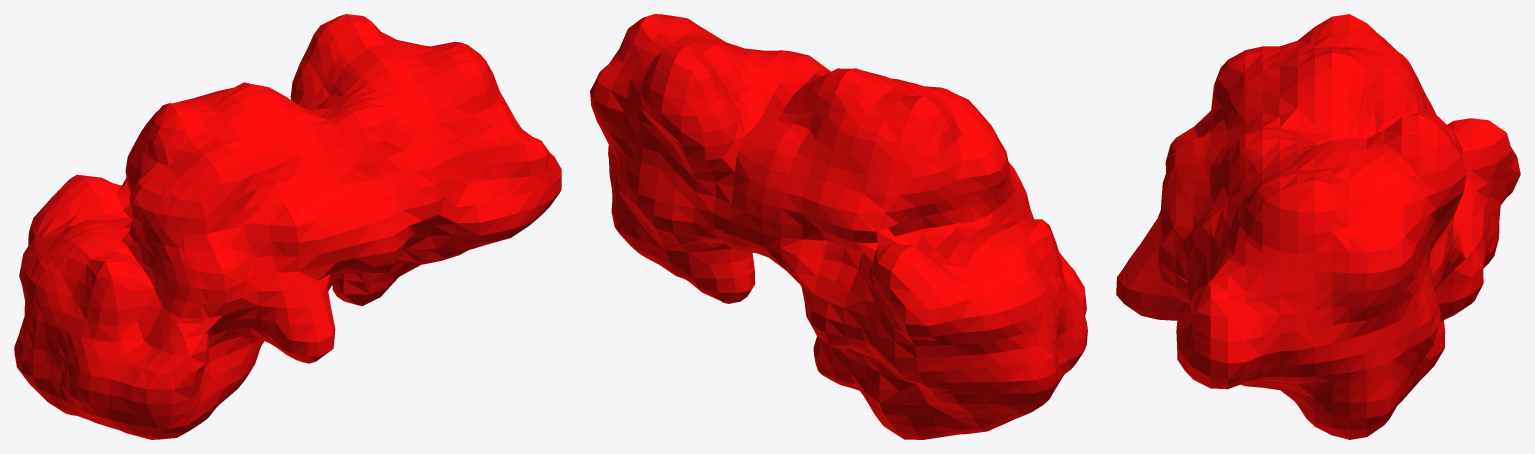
The model's file is trmJ_coarse.dae.
3 views of the same model, side by side, from view 1: azimuth 30°, elevation 25°; view 2: azimuth 150°, elevation 25°; view 3: azimuth 270°, elevation 25° (orthographic). The views are drawn at different scales.
Visible parts, largest first — view 1: trmJ; view 2: trmJ; view 3: trmJ.
Part boxes in pixels (bbox=[...]): trmJ: bbox=[14, 14, 561, 439]; trmJ: bbox=[590, 14, 1087, 439]; trmJ: bbox=[1116, 14, 1520, 439].
Bounding box in the file's own units: 90.76 × 61.63 × 52.82.
